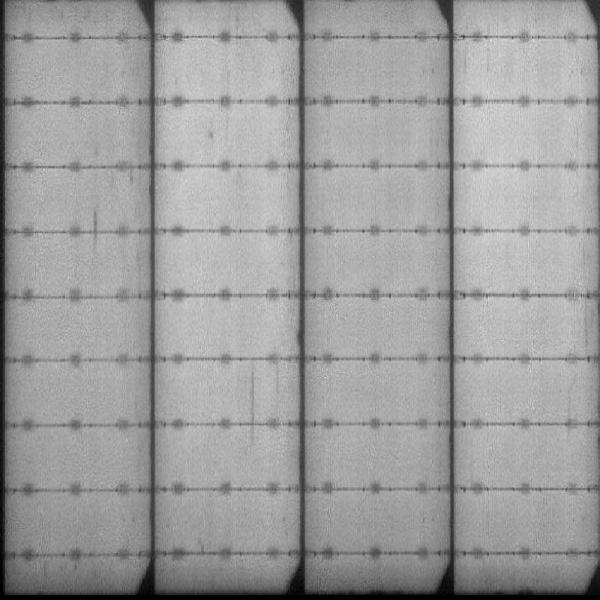scratch: (246, 375, 257, 443), (90, 208, 99, 248)
